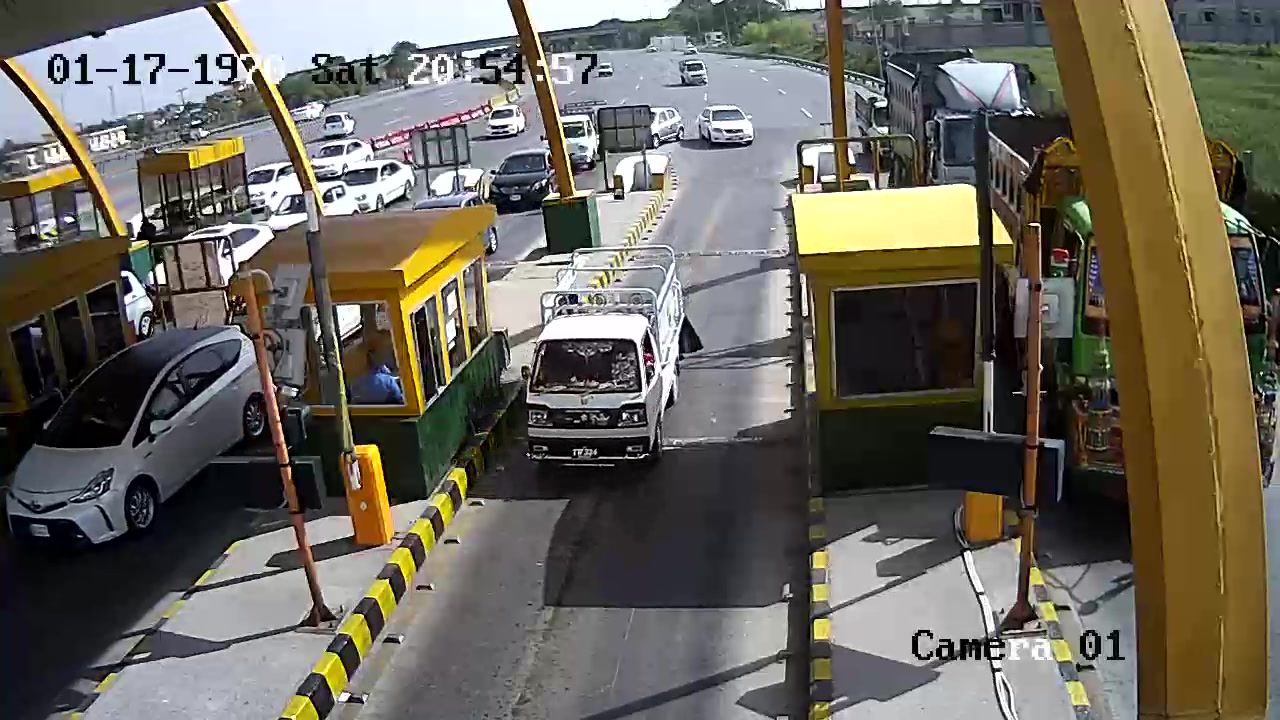F1: (520, 242, 696, 475)
